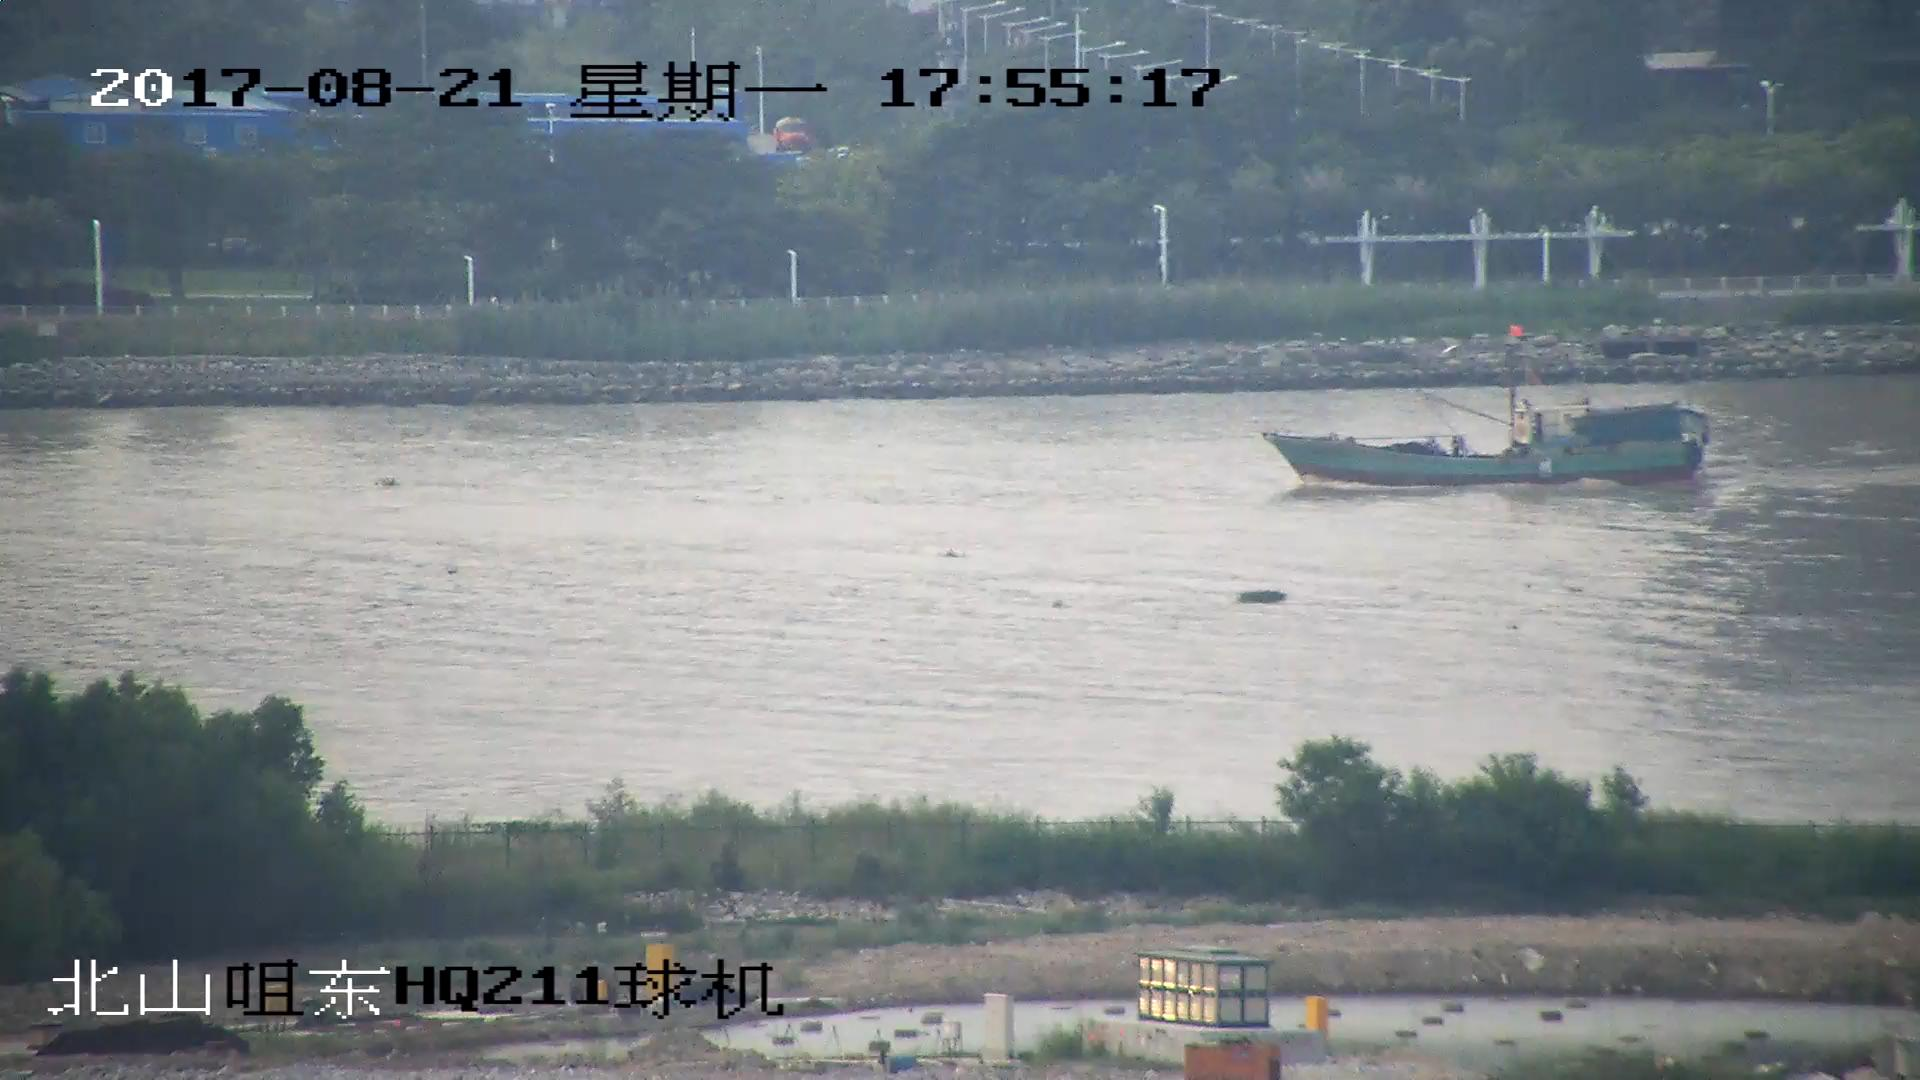fishing boat: (1268, 329, 1709, 488)
